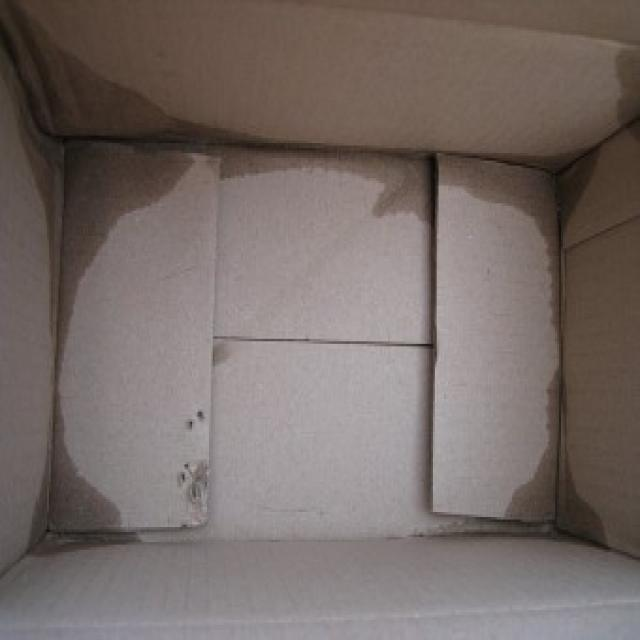wet: (12, 38, 188, 251), (491, 131, 619, 258), (33, 444, 130, 575), (517, 412, 604, 552)
